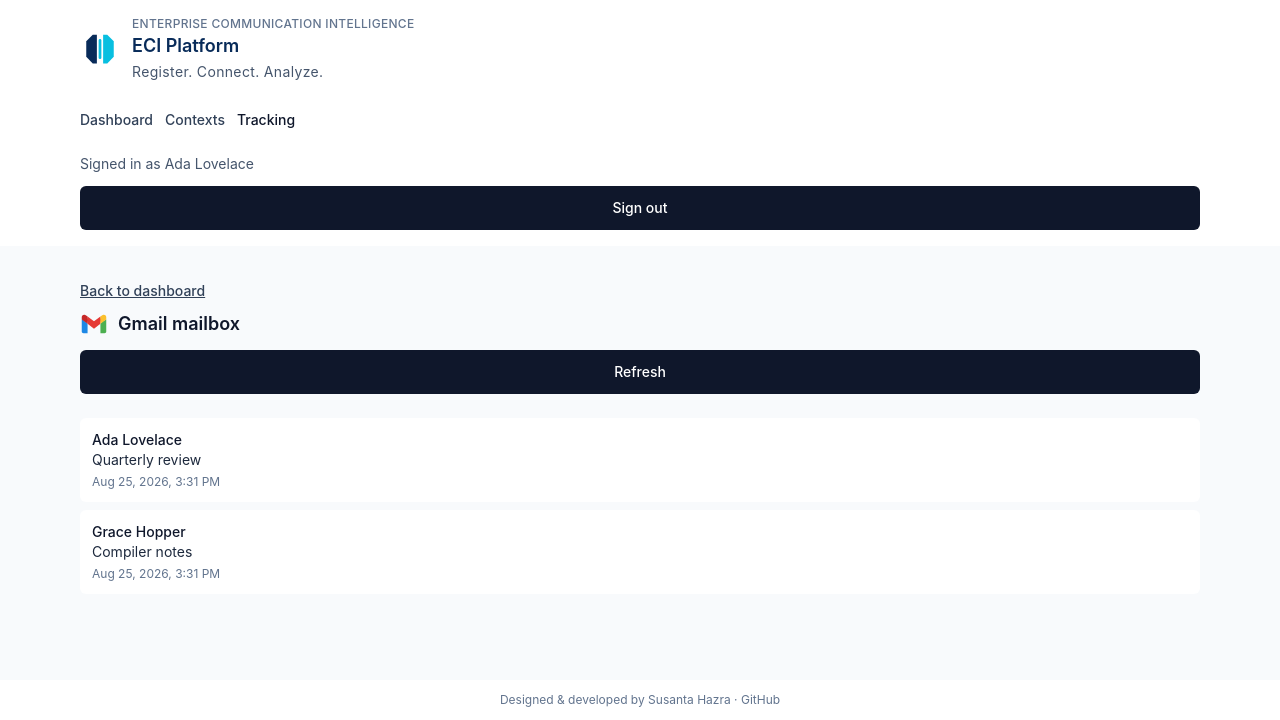
Test: attachment metadata › renders one attachment and multiple attachments with inline, unsupported, and oversized states
Click the button "Ada Lovelace Quarterly review Aug 25, 2026, 3:31 PM". click: x=137, y=440
box: [80,418,1200,502]
(page scrolled)
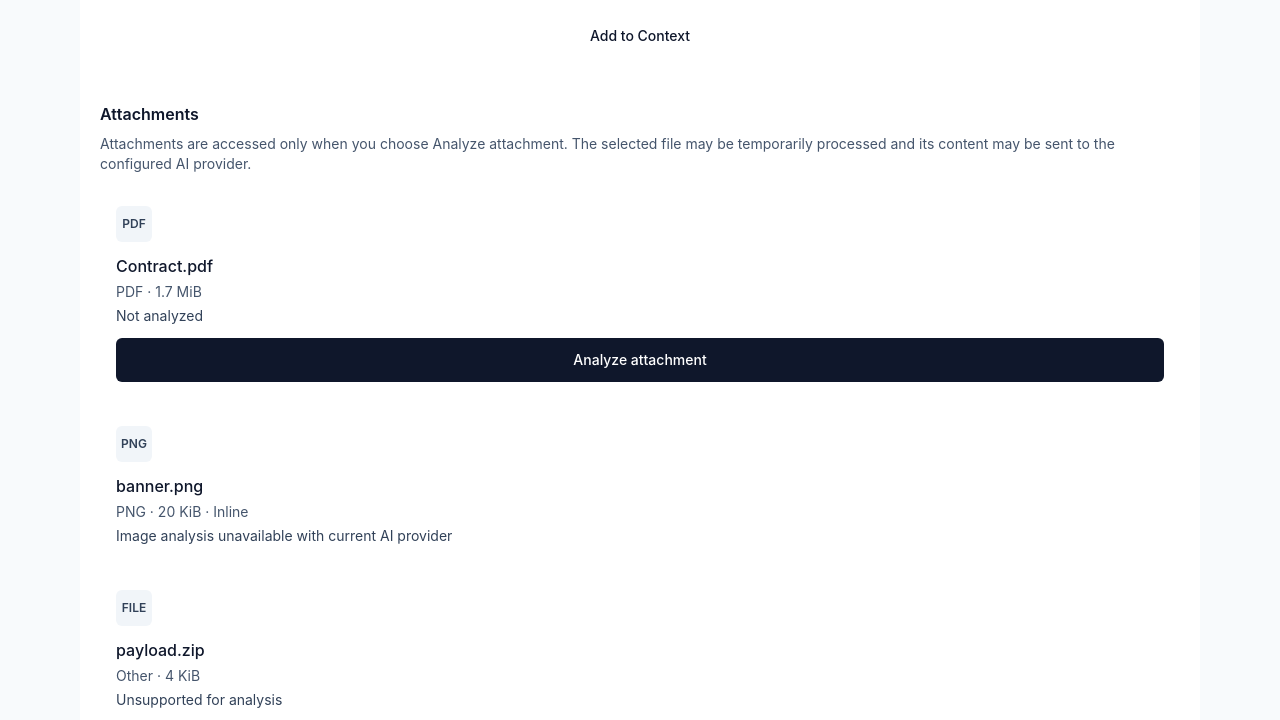
Result: the text "Contract.pdf" is shown at [116,256,213,276]
Result: the text "banner.png" is shown at [116,476,203,496]
Result: the text "PNG · 20 KiB · Inline" is shown at [116,503,248,520]
